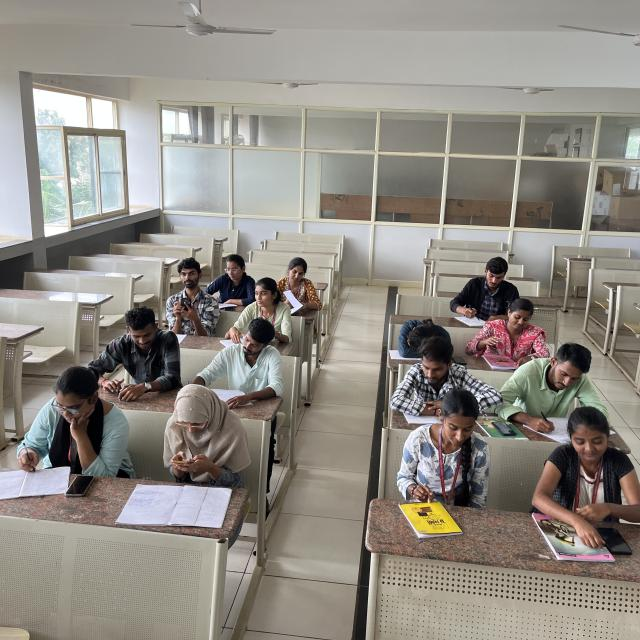Reading: (390, 350, 486, 426), (199, 322, 288, 400), (268, 256, 349, 314), (480, 301, 543, 369), (210, 252, 258, 312)
Sleeping: (384, 309, 475, 362)
Using Phone: (150, 397, 263, 485), (85, 311, 186, 398), (153, 250, 217, 323)
Writing: (6, 375, 130, 494), (510, 350, 627, 437), (436, 247, 532, 326)
